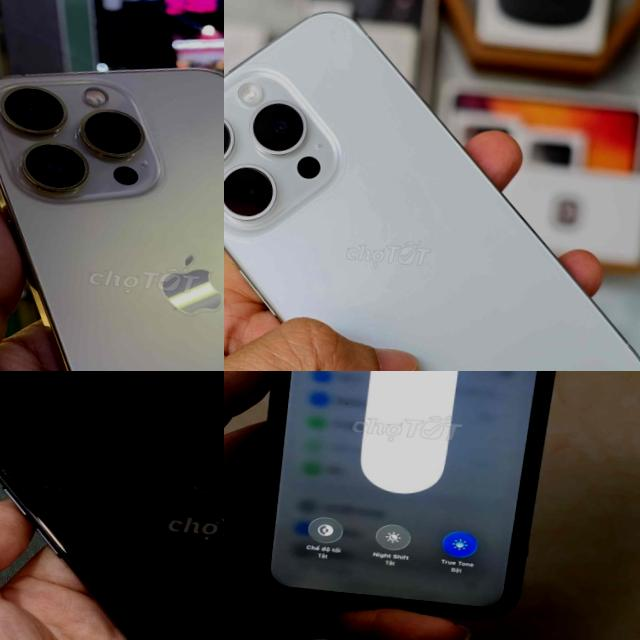gen_11: (260, 371, 552, 615)
gen_12_13: (0, 45, 224, 371)
gen_15: (224, 0, 640, 371), (0, 371, 224, 640)
scratch: (0, 405, 149, 518), (124, 371, 224, 439), (177, 472, 224, 519)
